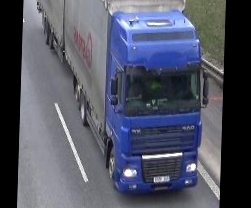truck: (31, 0, 211, 191)
